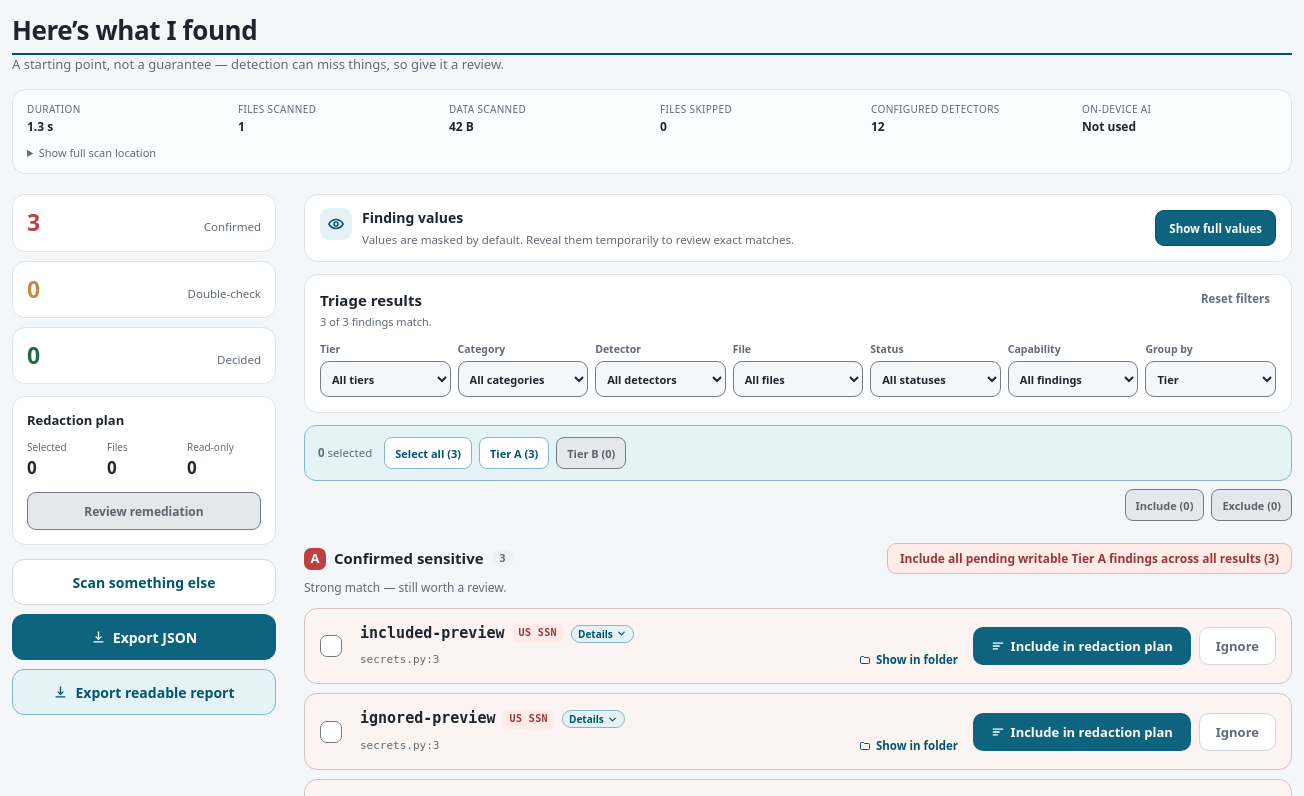
Test: ResultsScreen › bulk Exclude changes only selected included findings and preserves mixed states
Step 1. Click the button "Include in redaction plan" in the row of "included-preview" → [1082, 646], box [973, 627, 1191, 665]
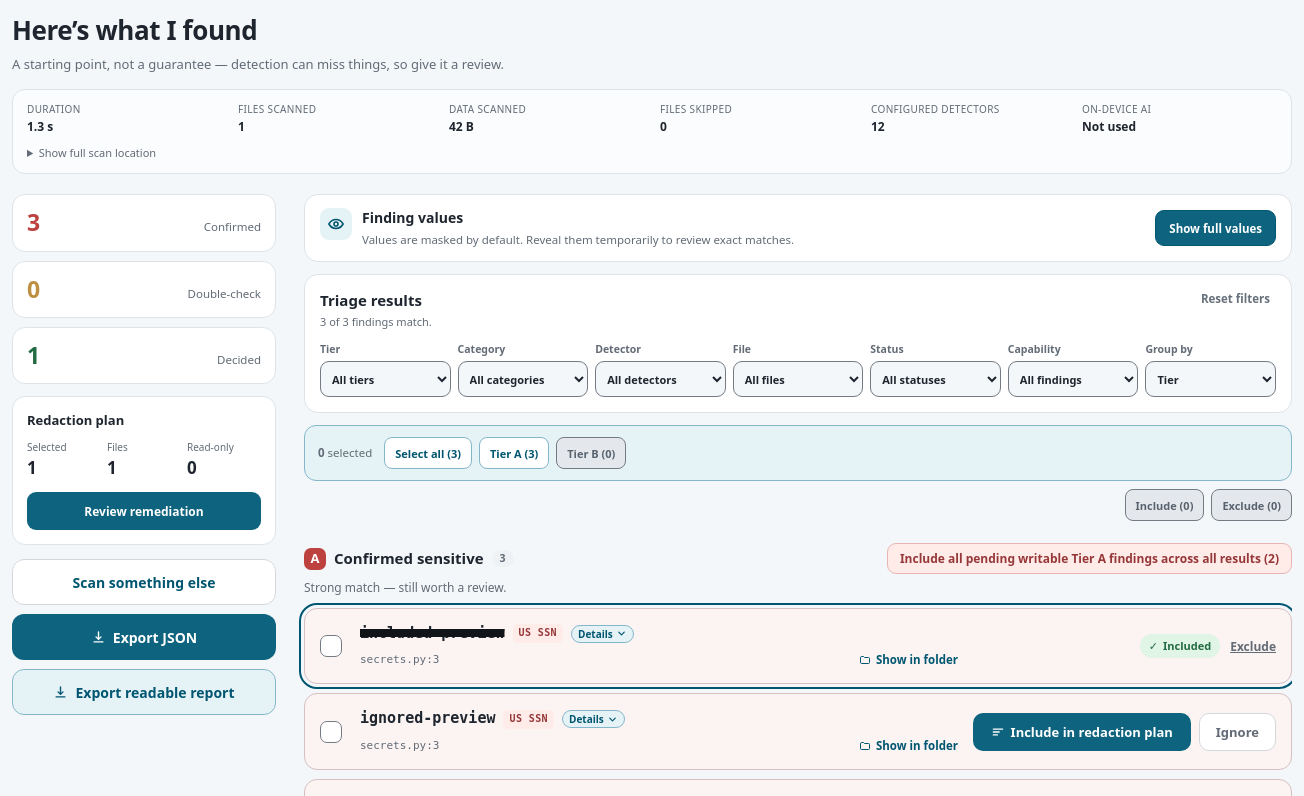
Step 2. Click the button "Ignore" in the row of "ignored-preview" → [1237, 732], box [1199, 713, 1276, 751]
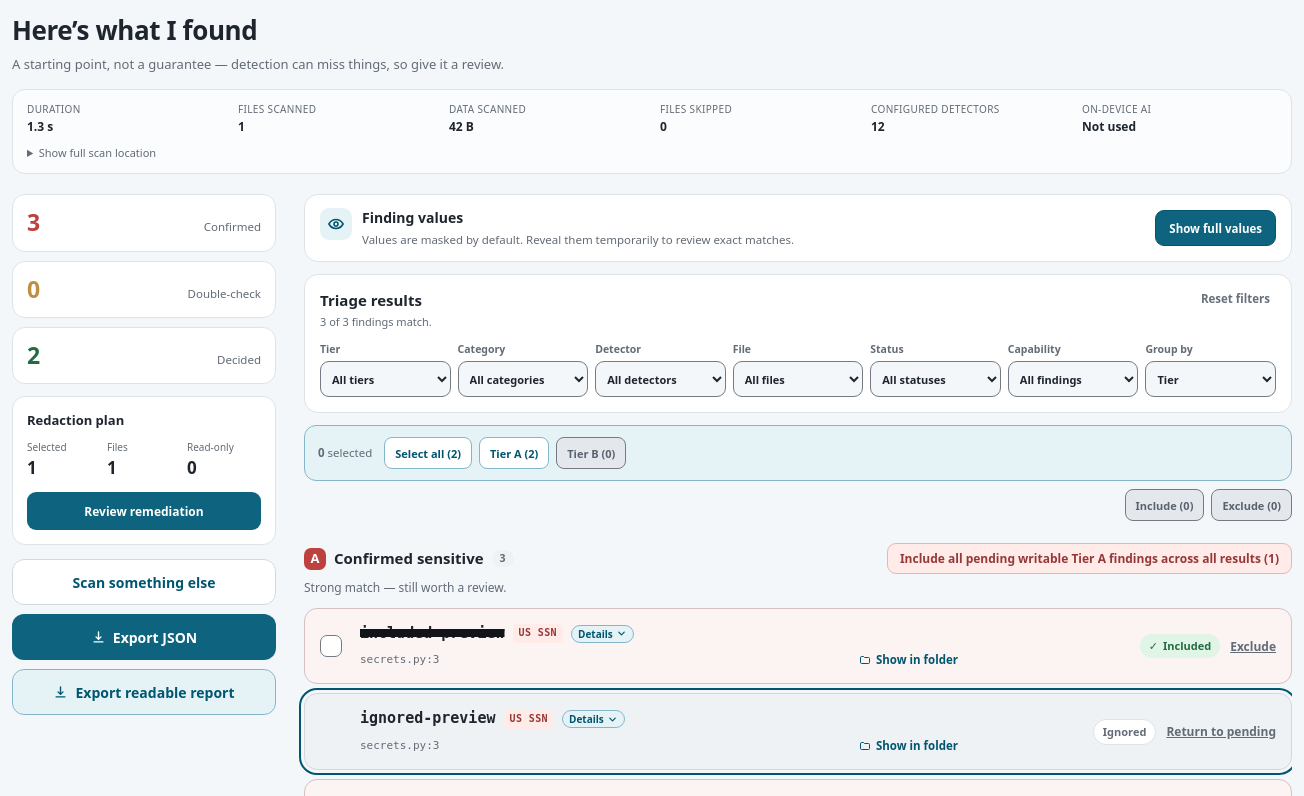
Expected: the checkbox labelled "Select finding ignored-preview" is not shown
Step 3. Click the button "Select all (2)" → [428, 453], box [384, 437, 472, 469]
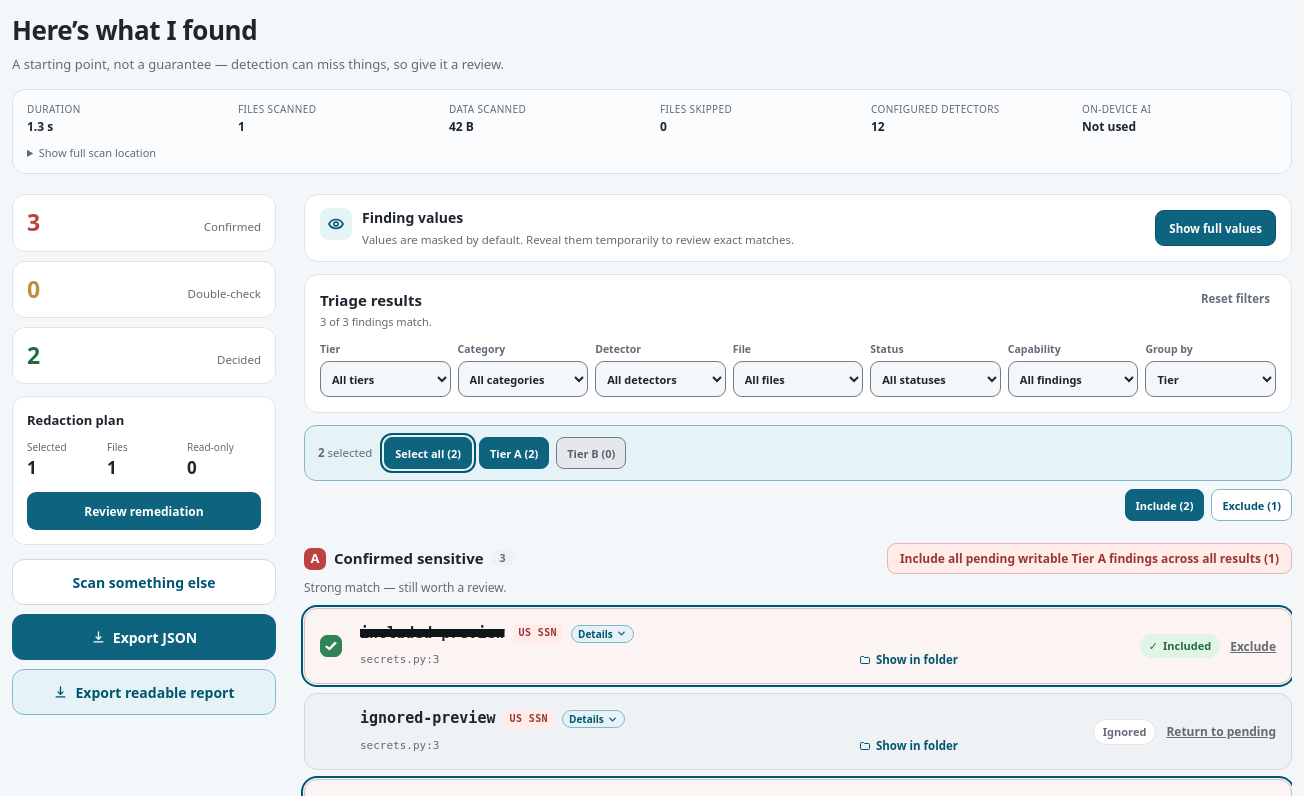
Step 4. Click the button "Exclude (1)" → [1252, 505], box [1211, 489, 1292, 521]
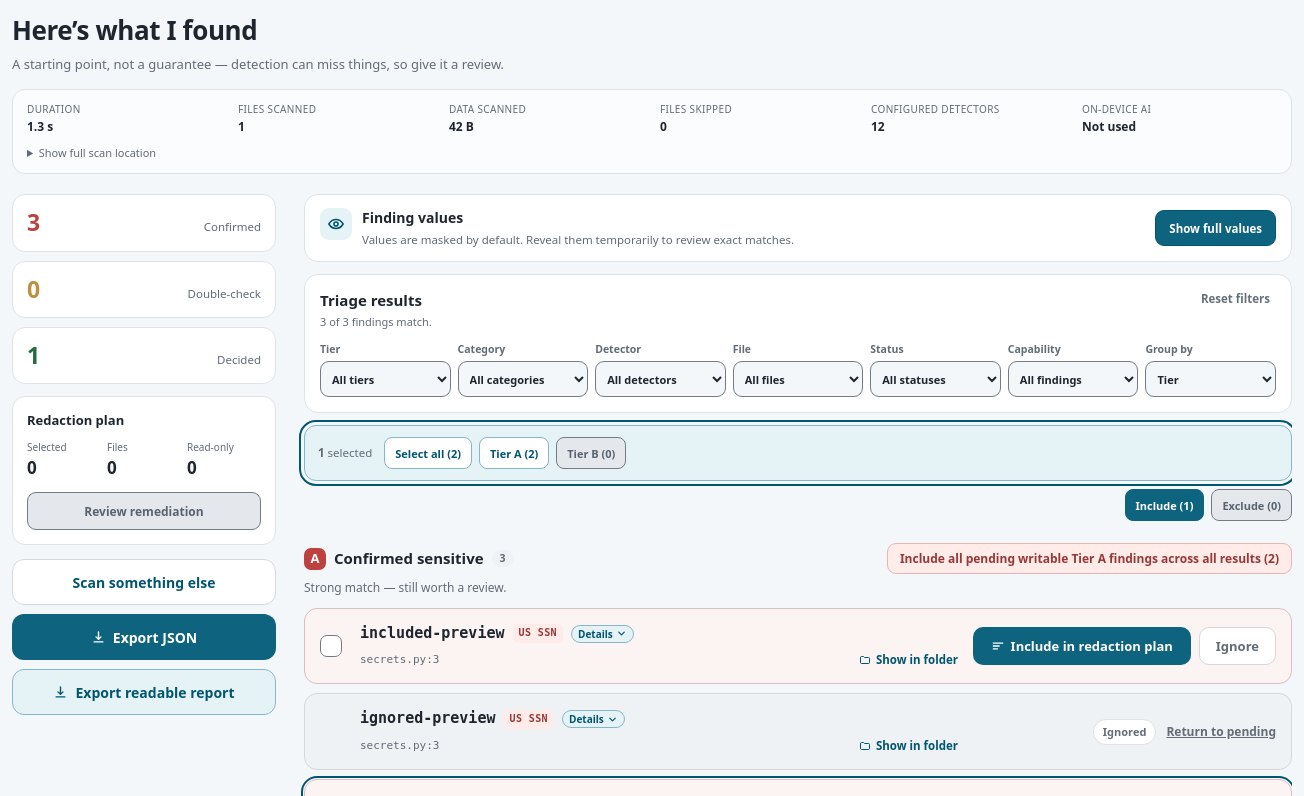
Expected: the text "Ignored" is shown, [1093, 719, 1156, 745]
Expected: the button "Exclude (0)" is disabled, [1211, 489, 1292, 521]
